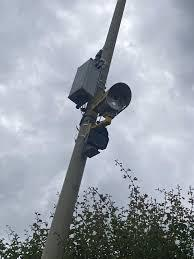Speed-Camera: (91, 81, 139, 125)
